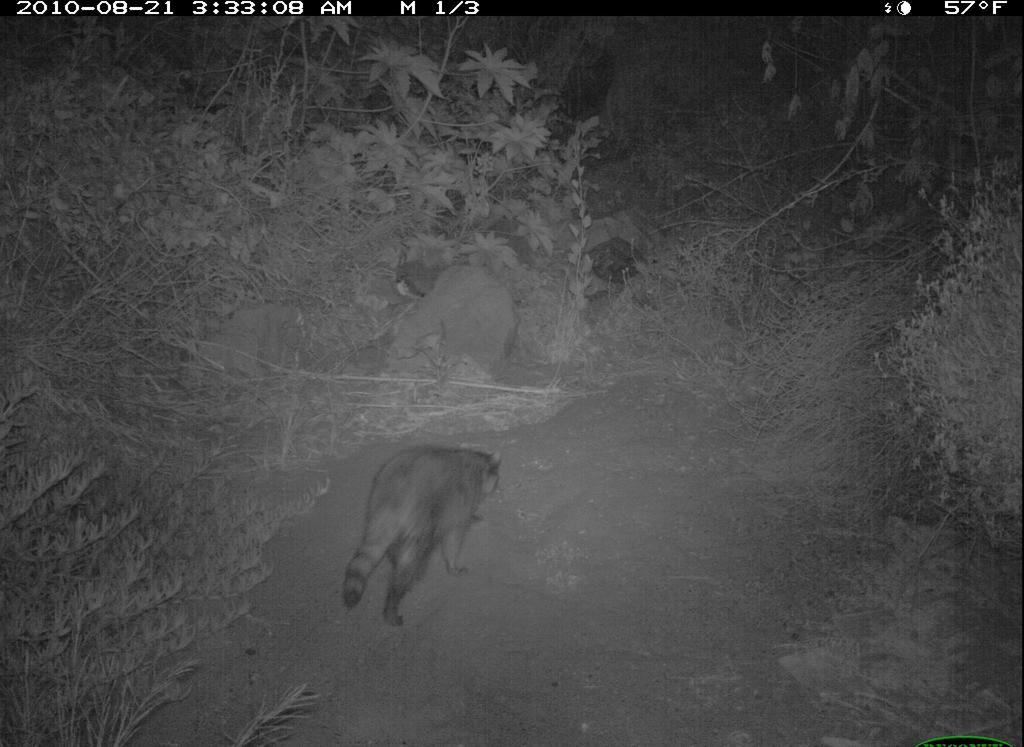raccoon: (340, 434, 511, 634)
